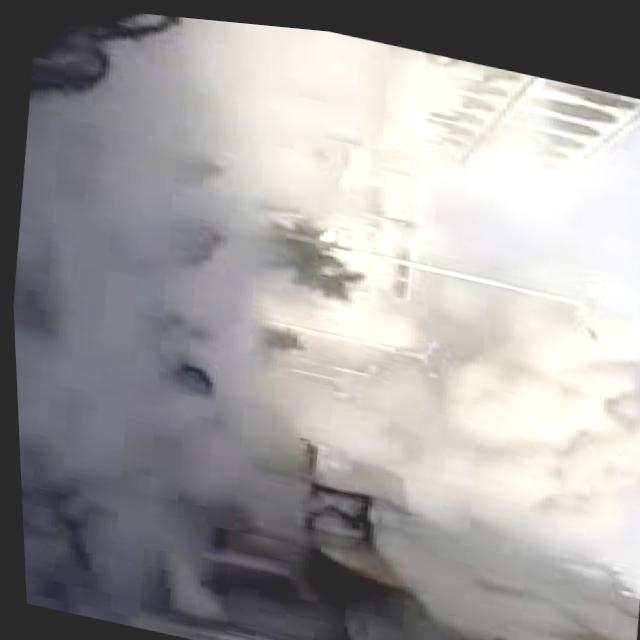no_helmet: (0, 0, 440, 640), (276, 191, 640, 640)
